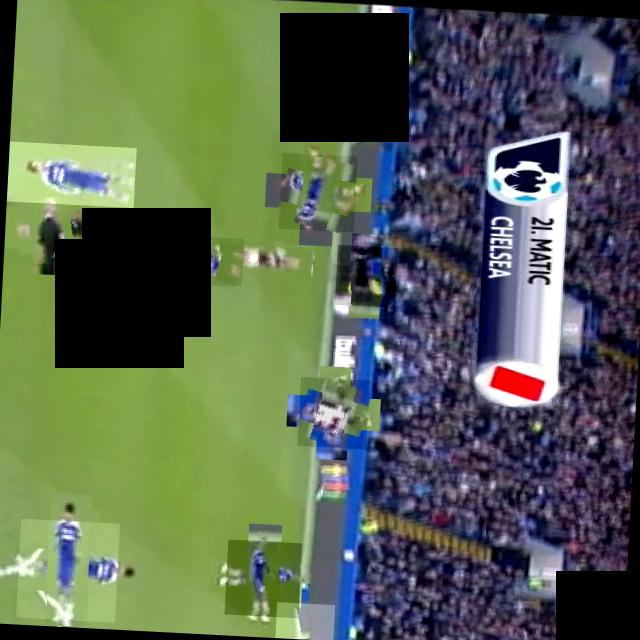referee: (12, 192, 88, 268), (334, 245, 397, 308)
soccer-player: (15, 518, 119, 622), (6, 142, 136, 208), (278, 152, 356, 232), (128, 233, 243, 287), (224, 540, 302, 618), (296, 377, 369, 450), (217, 240, 313, 278), (274, 602, 334, 640)
